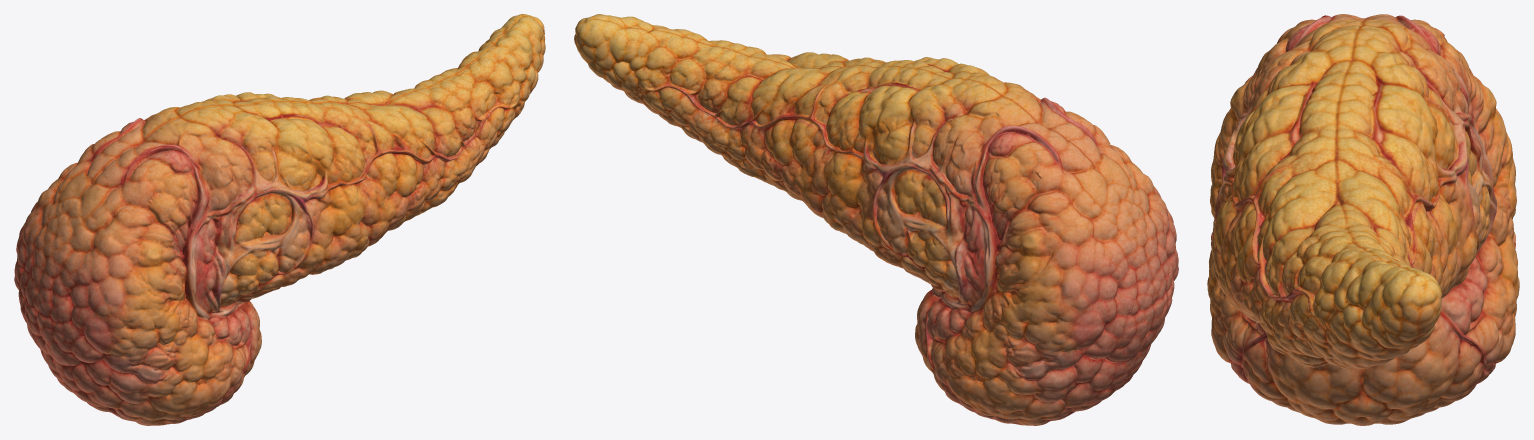
File: pancreas.glb
3 views of the same model, side by side, from view 1: azimuth 30°, elevation 25°; view 2: azimuth 150°, elevation 25°; view 3: azimuth 270°, elevation 25° (orthographic). The views are drawn at different scales.
Parts seen in each view (by area): view 1: tripo_node_28f9ac4d-a7ee-4a69-acaa-c6201ef7be03; view 2: tripo_node_28f9ac4d-a7ee-4a69-acaa-c6201ef7be03; view 3: tripo_node_28f9ac4d-a7ee-4a69-acaa-c6201ef7be03.
Part boxes in pixels (x1,y1,x2,y2): tripo_node_28f9ac4d-a7ee-4a69-acaa-c6201ef7be03: (14,14,545,425); tripo_node_28f9ac4d-a7ee-4a69-acaa-c6201ef7be03: (574,14,1178,425); tripo_node_28f9ac4d-a7ee-4a69-acaa-c6201ef7be03: (1207,14,1519,425).
Size of the model in its own units: 0.9805 by 0.5224 by 0.3615.
1 material, 1 textured.
